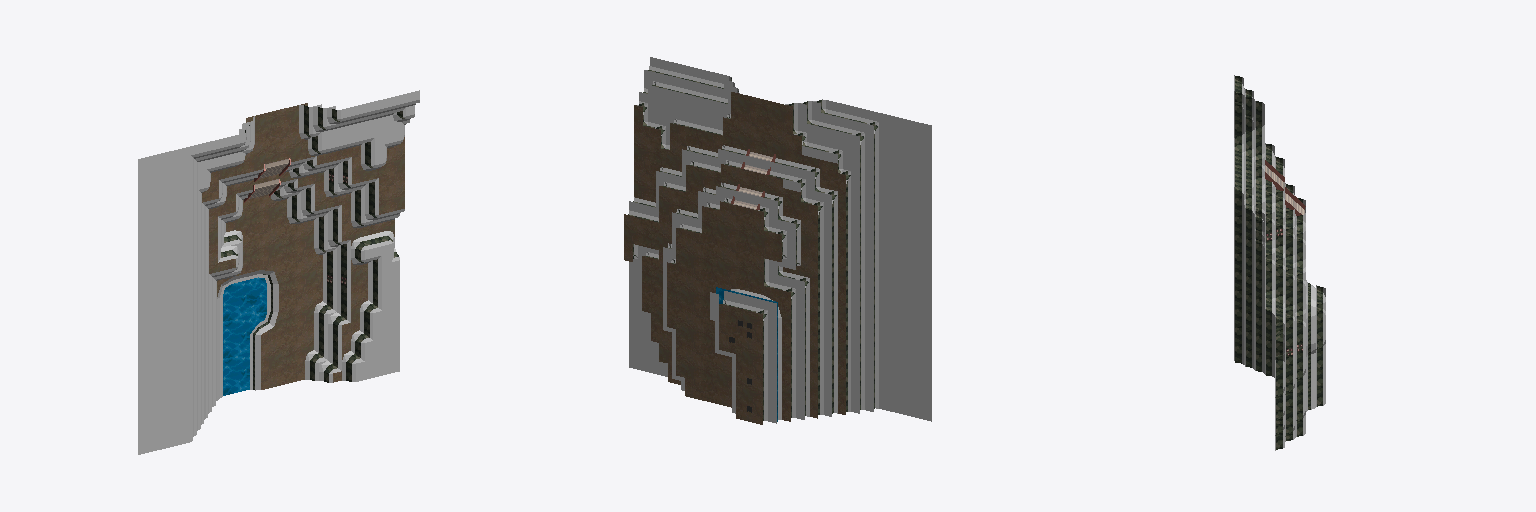
The picture shows the model from 3 angles: view 1: azimuth 30°, elevation 25°; view 2: azimuth 150°, elevation 25°; view 3: azimuth 270°, elevation 25°; orthographic projection.
Parts seen in each view (by area): view 1: map; view 2: map; view 3: map.
Boxes of the visible parts, <box> form: map: <box>138,90,419,454</box>; map: <box>624,57,931,424</box>; map: <box>1234,75,1325,450</box>.
Bounding box in the file's own units: 32 × 32 × 9.
14 materials, 8 textured.